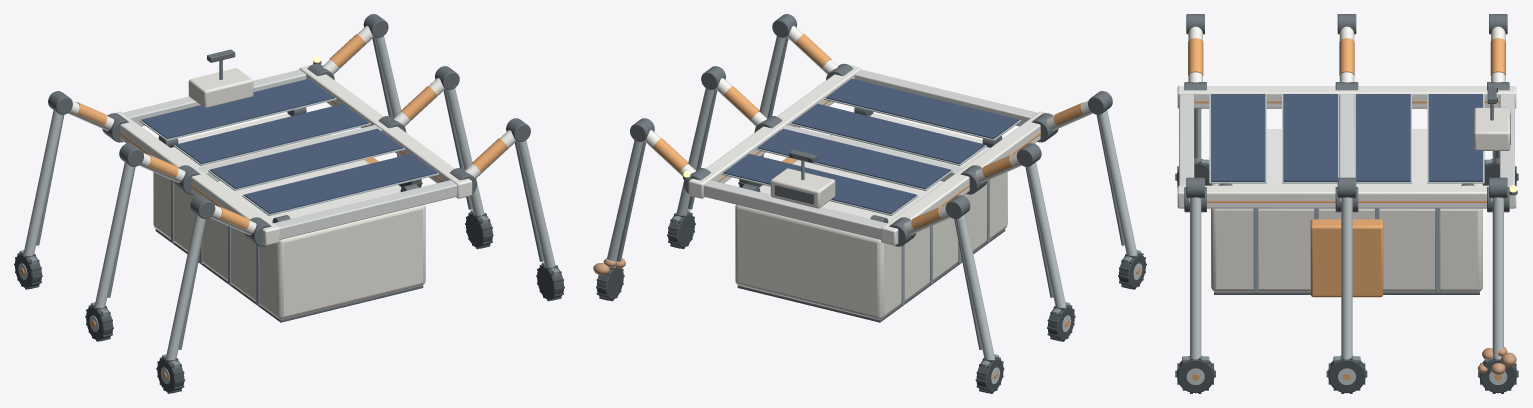
Rendered from walker.glb.
The picture shows the model from 3 angles, left to right: view 1: azimuth 30°, elevation 25°; view 2: azimuth 150°, elevation 25°; view 3: azimuth 270°, elevation 25°; orthographic projection. The views are drawn at different scales.
Parts seen in each view (by area): view 1: module_warm_shell, deck_solar_cell, frame_rover_white, frame_cross_warm_panel, module_roof_white_painted, leg3_shin_alloy, leg1_shin_alloy, leg2_shin_alloy, leg6_shin_alloy, deck_rim_alloy, leg5_shin_alloy, avionics_warm_shell (+17 smaller); view 2: module_warm_shell, deck_solar_cell, frame_cross_warm_panel, frame_rover_white, module_roof_white_painted, leg2_shin_alloy, leg1_shin_alloy, leg3_shin_alloy, leg4_shin_alloy, leg5_shin_alloy, deck_rim_alloy, avionics_warm_shell (+17 smaller); view 3: deck_solar_cell, module_warm_shell, frame_rover_white, module_airlock_kit_orange, frame_cross_warm_panel, leg5_shin_alloy, leg6_shin_alloy, module_roof_white_painted, leg4_shin_alloy, deck_rim_alloy, avionics_warm_shell, module_ribs_slate_panel (+17 smaller).
Boxes of the visible parts, left/top/right/bottom form: module_warm_shell: left=153, top=134, right=425, bottom=319; deck_solar_cell: left=141, top=78, right=437, bottom=214; frame_rover_white: left=107, top=65, right=472, bottom=245; frame_cross_warm_panel: left=123, top=69, right=457, bottom=239; module_roof_white_painted: left=171, top=113, right=401, bottom=221; leg3_shin_alloy: left=162, top=195, right=215, bottom=368; leg1_shin_alloy: left=19, top=91, right=72, bottom=264; leg2_shin_alloy: left=90, top=143, right=143, bottom=316; leg6_shin_alloy: left=506, top=118, right=559, bottom=275; deck_rim_alloy: left=139, top=79, right=439, bottom=215; leg5_shin_alloy: left=435, top=66, right=488, bottom=223; avionics_warm_shell: left=188, top=68, right=253, bottom=107; module_warm_shell: left=735, top=134, right=1007, bottom=319; deck_solar_cell: left=723, top=78, right=1019, bottom=214; frame_cross_warm_panel: left=703, top=69, right=1037, bottom=239; frame_rover_white: left=688, top=65, right=1053, bottom=245; module_roof_white_painted: left=759, top=113, right=989, bottom=222; leg2_shin_alloy: left=1016, top=143, right=1070, bottom=316; leg1_shin_alloy: left=945, top=195, right=998, bottom=368; leg3_shin_alloy: left=1088, top=91, right=1141, bottom=264; leg4_shin_alloy: left=603, top=118, right=654, bottom=275; leg5_shin_alloy: left=672, top=66, right=725, bottom=223; deck_rim_alloy: left=721, top=79, right=1021, bottom=215; avionics_warm_shell: left=770, top=168, right=835, bottom=208; deck_solar_cell: left=1211, top=94, right=1482, bottom=181; module_warm_shell: left=1211, top=183, right=1482, bottom=291; frame_rover_white: left=1177, top=86, right=1516, bottom=208; module_airlock_kit_orange: left=1310, top=219, right=1383, bottom=297; frame_cross_warm_panel: left=1179, top=94, right=1514, bottom=185; leg5_shin_alloy: left=1333, top=177, right=1360, bottom=362; leg6_shin_alloy: left=1182, top=177, right=1209, bottom=363; module_roof_white_painted: left=1218, top=129, right=1475, bottom=185; leg4_shin_alloy: left=1484, top=177, right=1507, bottom=362; deck_rim_alloy: left=1209, top=94, right=1484, bottom=183; avionics_warm_shell: left=1474, top=107, right=1510, bottom=150; module_ribs_slate_panel: left=1253, top=208, right=1440, bottom=292.
Size of the model in its own units: 16.15 by 7.32 by 11.34.
